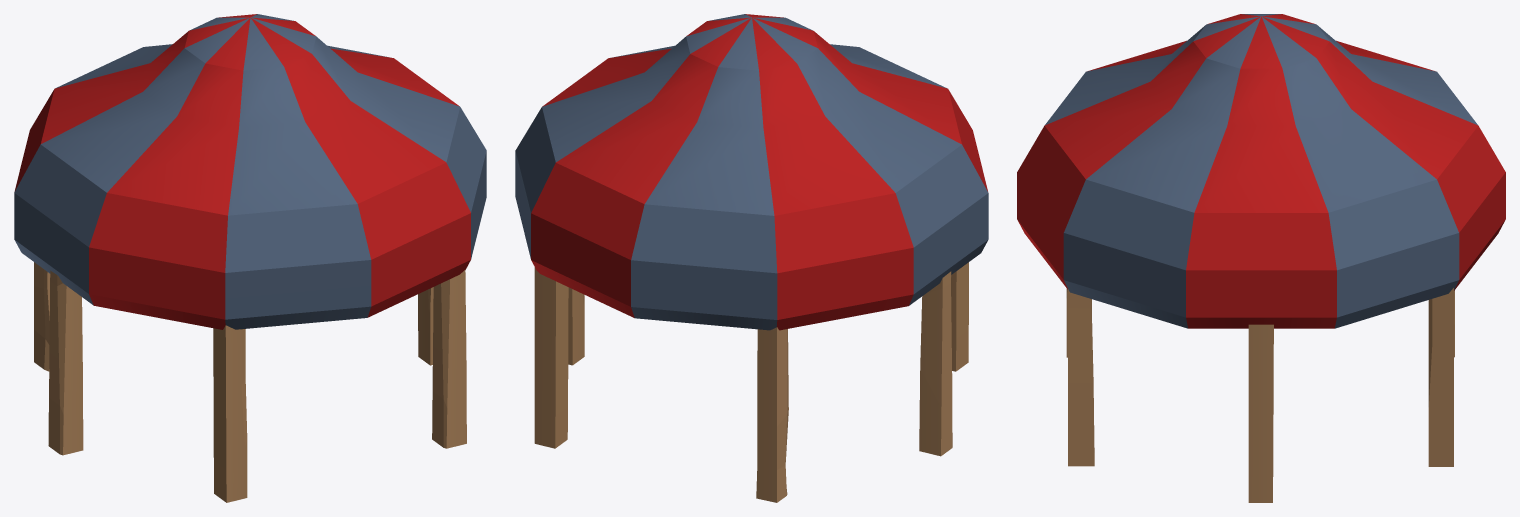
Rendered from Tent_A.fbx.
3 renders of one model, left to right at view 1: azimuth 30°, elevation 25°; view 2: azimuth 150°, elevation 25°; view 3: azimuth 270°, elevation 25°, orthographic.
Visible parts, largest first — view 1: Tent_A; view 2: Tent_A; view 3: Tent_A.
Boxes of the visible parts, x1,y1,x2,y2 form: Tent_A: [14, 14, 486, 502]; Tent_A: [515, 14, 988, 502]; Tent_A: [1017, 14, 1505, 502].
Bounding box in the file's own units: 244 × 226 × 257.
